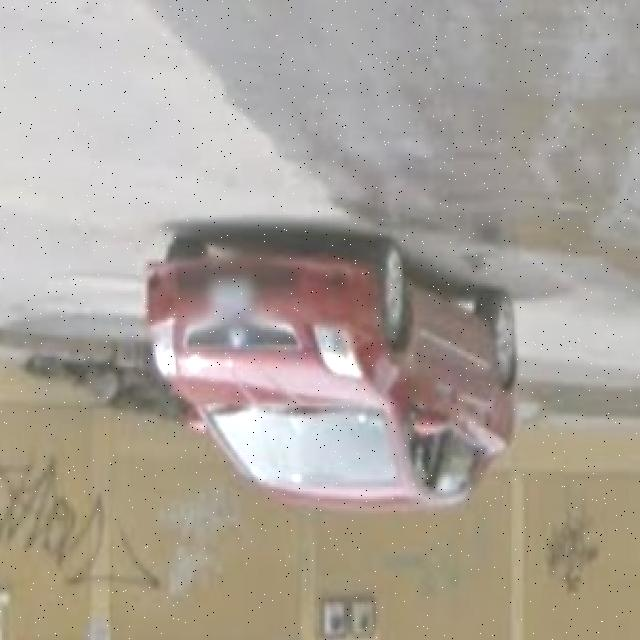car: (136, 215, 527, 517)
